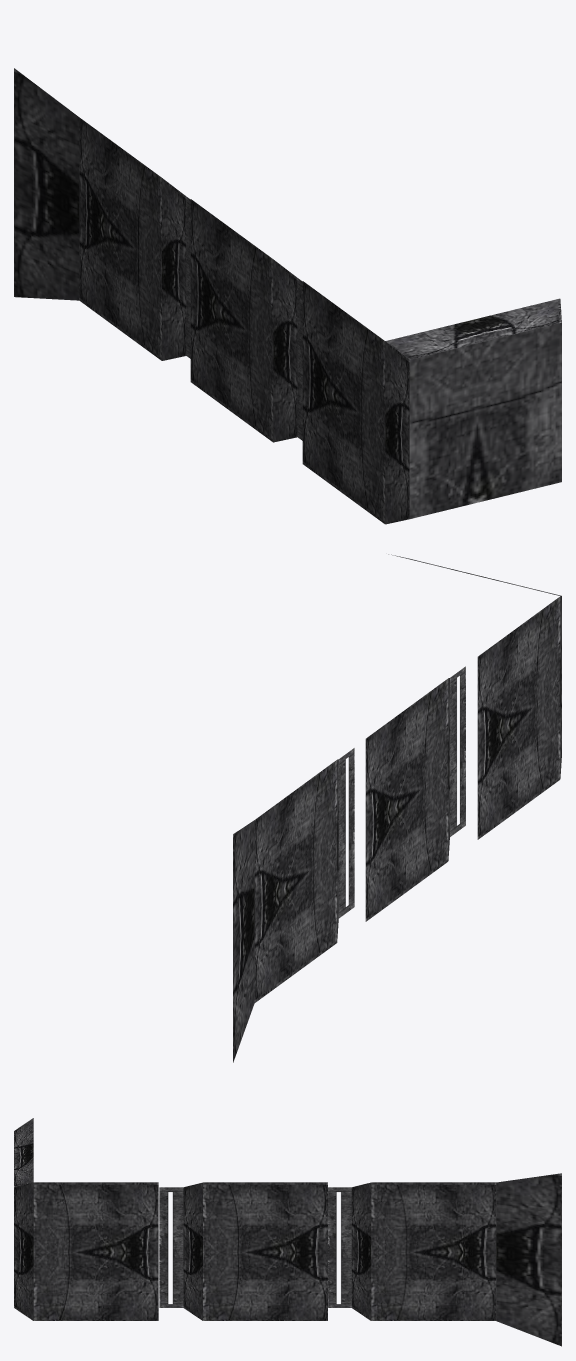
The picture shows the model from 3 angles, top to bottom: view 1: azimuth 30°, elevation 25°; view 2: azimuth 150°, elevation 25°; view 3: azimuth 270°, elevation 25°; orthographic projection. The views are drawn at different scales.
Parts seen in each view (by area): view 1: model_Object05; view 2: model_Object05; view 3: model_Object05.
Part boxes in pixels (box(x1,y1,x2,y2)): model_Object05: box(14, 68, 561, 524); model_Object05: box(233, 554, 561, 1062); model_Object05: box(14, 1118, 561, 1346).
Bounding box in the file's own units: 1 × 1 × 2.87.
Materials: 2 (2 with a texture image).
